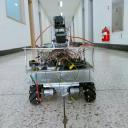cart: (22, 47, 97, 105)
